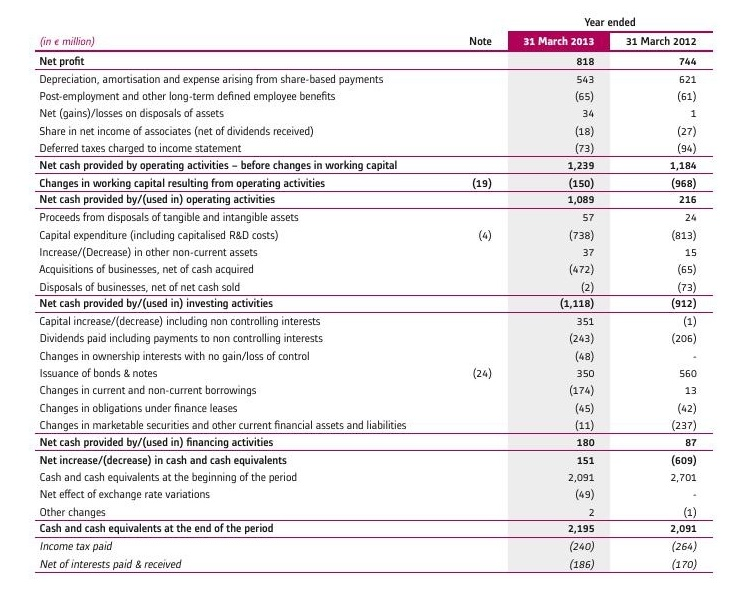table: (0, 0, 747, 597)
